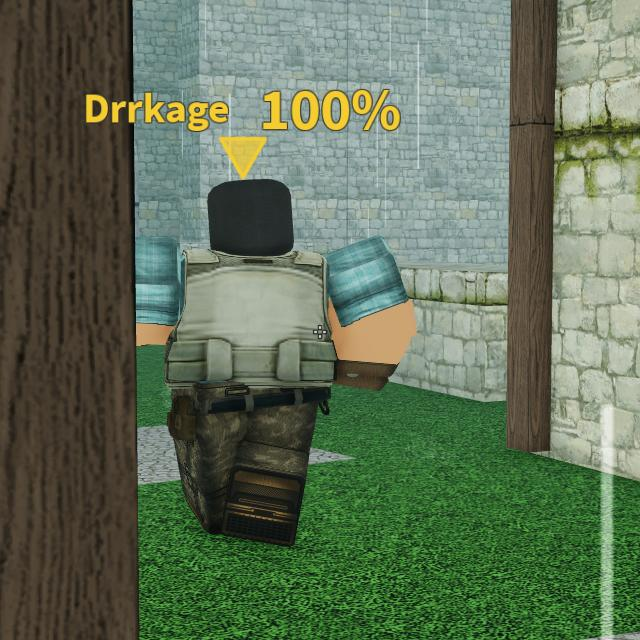Head: (210, 178, 293, 256)
Player: (136, 178, 416, 544)
